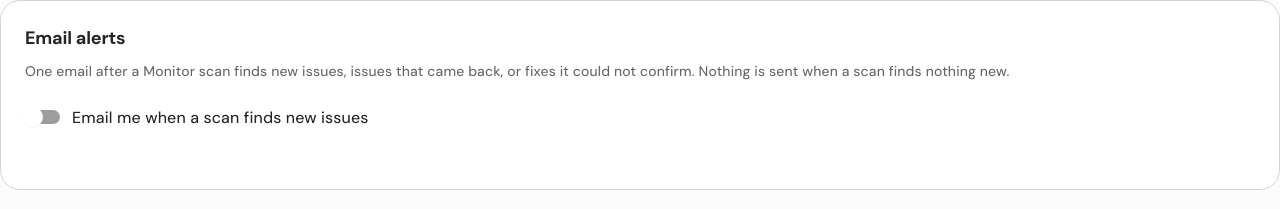
it: ScanAlertsCard › puts the switch back when saving fails
Click the switch. click: (196, 117)
box: x1=23 y1=107 x2=369 y2=128
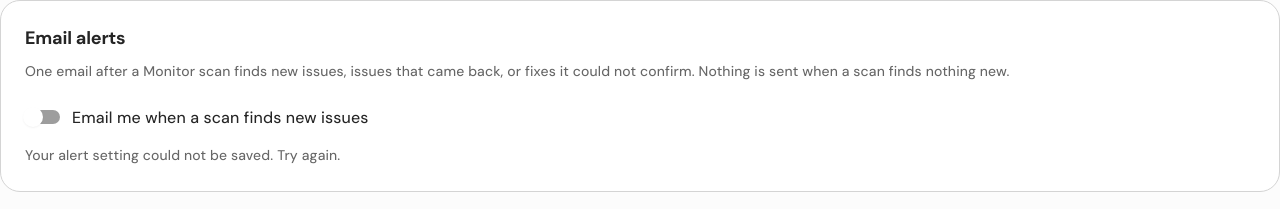
Result: the message shows "could not be saved" at x1=25 y1=146 x2=340 y2=164
